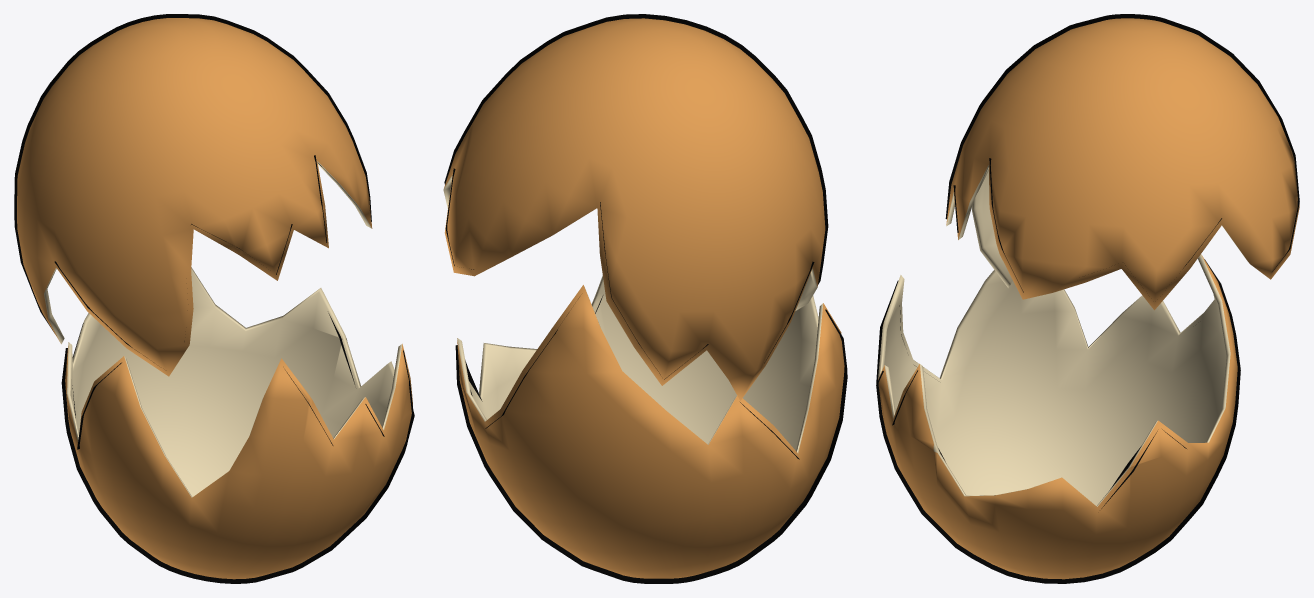
Rendered from huevo_roto.glb.
3 renders of one model, left to right at view 1: azimuth 30°, elevation 25°; view 2: azimuth 150°, elevation 25°; view 3: azimuth 270°, elevation 25°, orthographic. The views are drawn at different scales.
Visible parts, largest first — view 1: Sphere.001, Sphere; view 2: Sphere.001, Sphere; view 3: Sphere, Sphere.001.
Boxes of the visible parts, x1,y1,x2,y2 form: Sphere.001: (14,14,372,376); Sphere: (61,267,414,583); Sphere.001: (443,14,828,400); Sphere: (455,275,847,583); Sphere: (876,254,1240,583); Sphere.001: (945,14,1299,310).
Size of the model in its own units: 2.11 by 3.26 by 2.35.
Materials: 2 (1 with a texture image).
